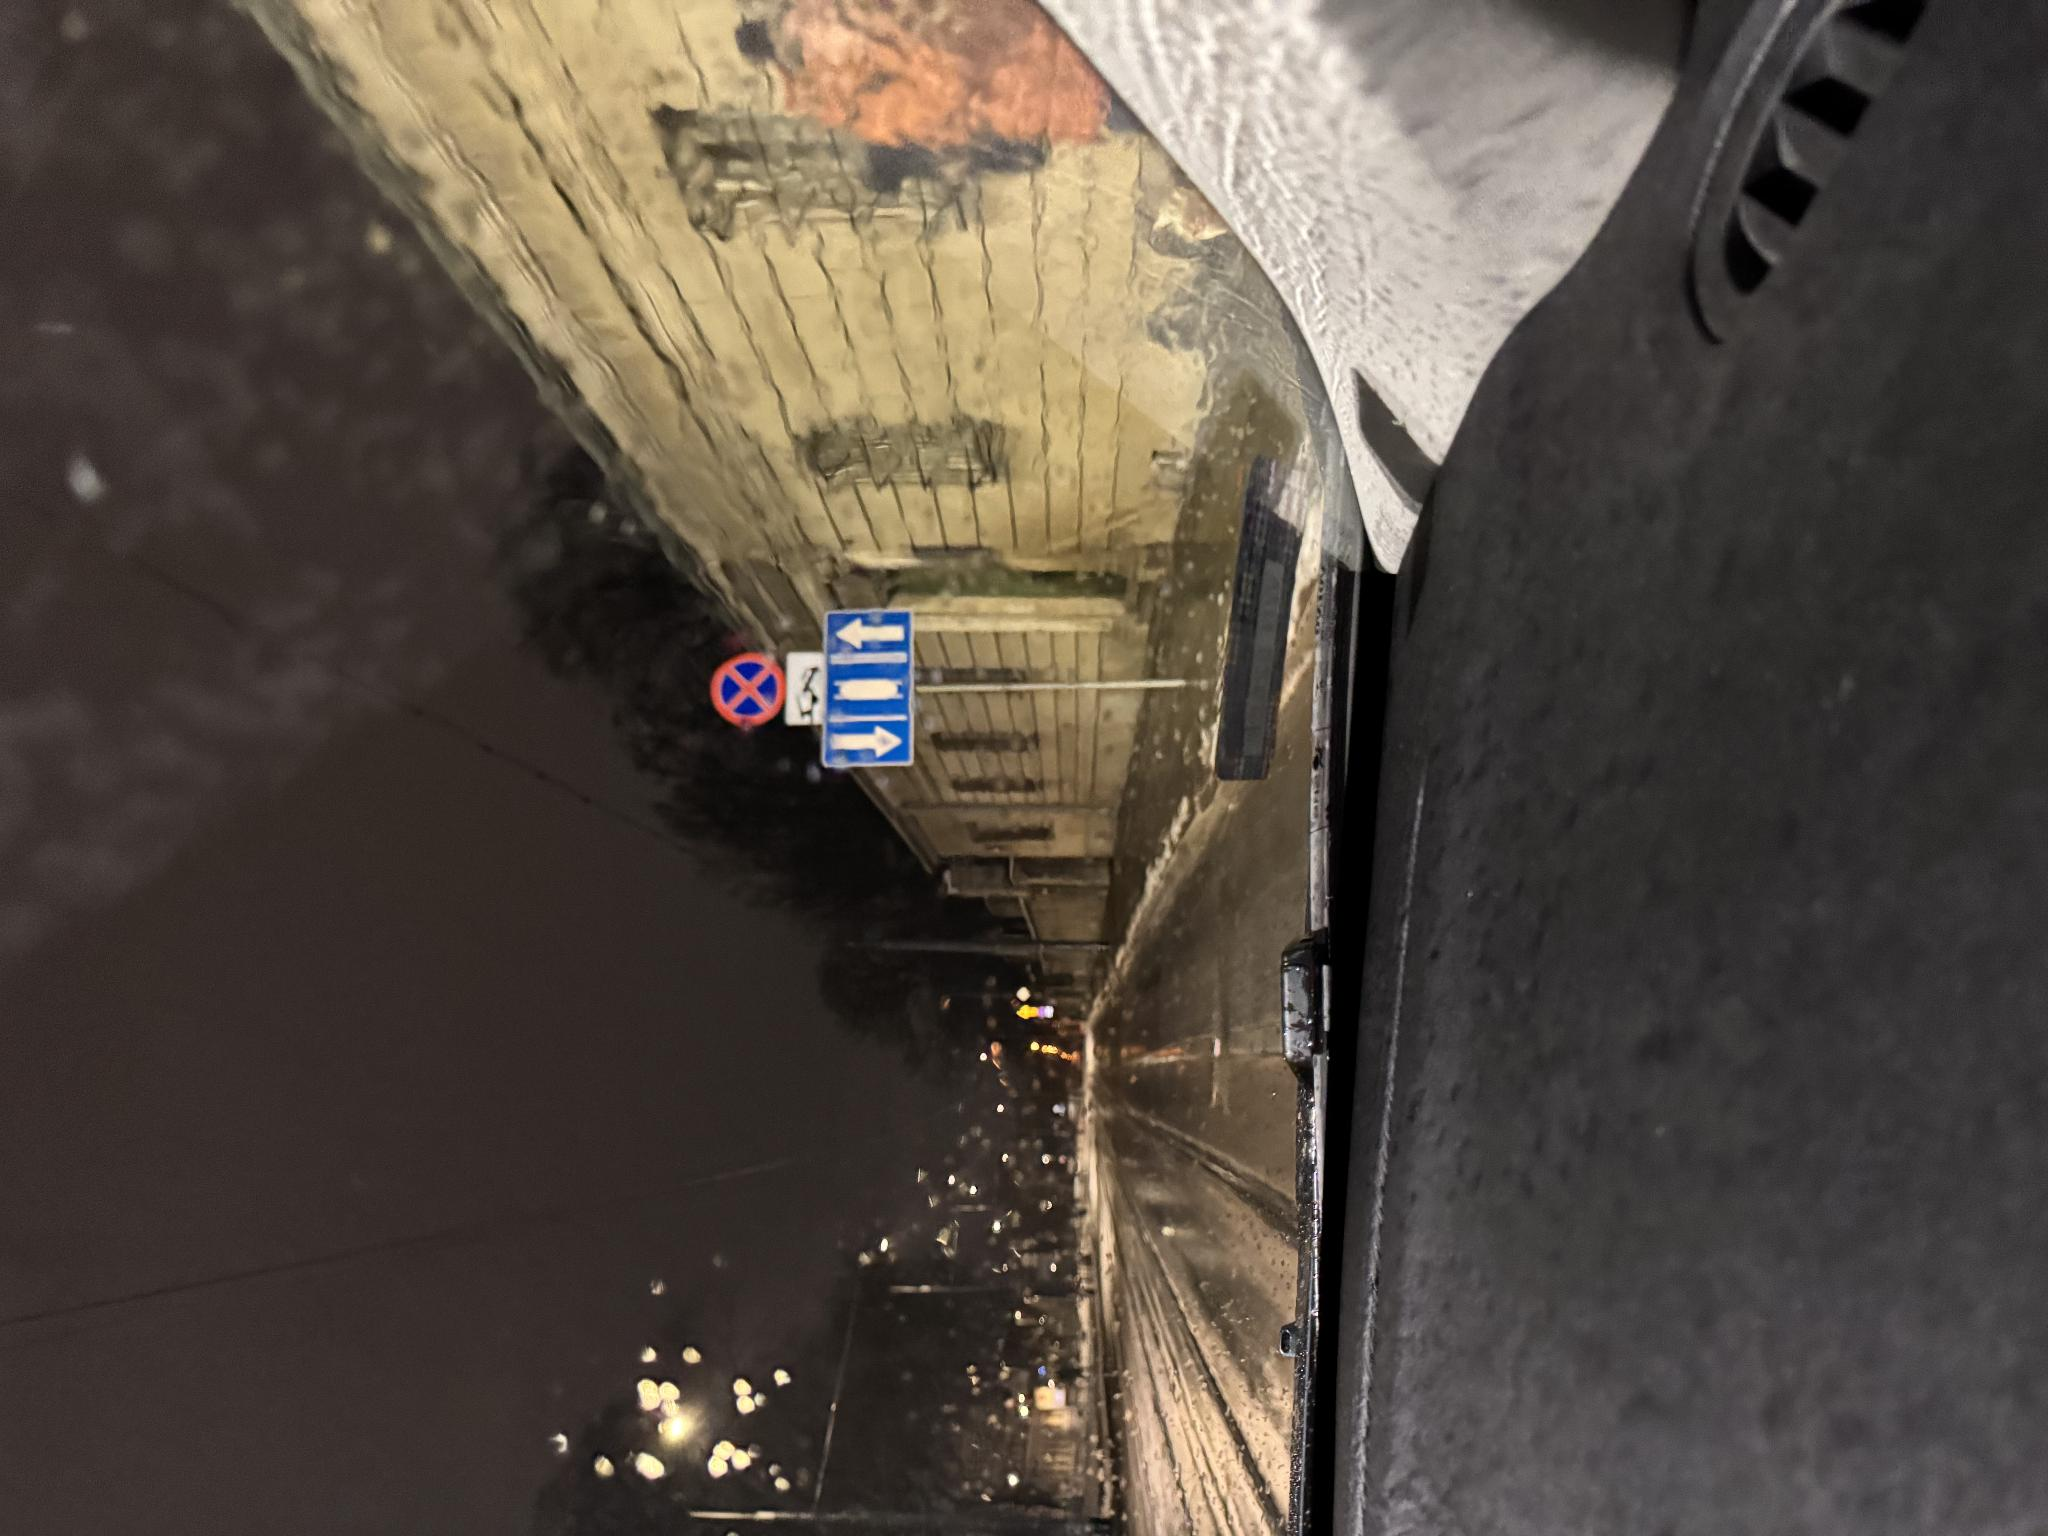other: (769, 824, 927, 913), (810, 783, 885, 824)
prohibitory: (810, 710, 885, 786)
